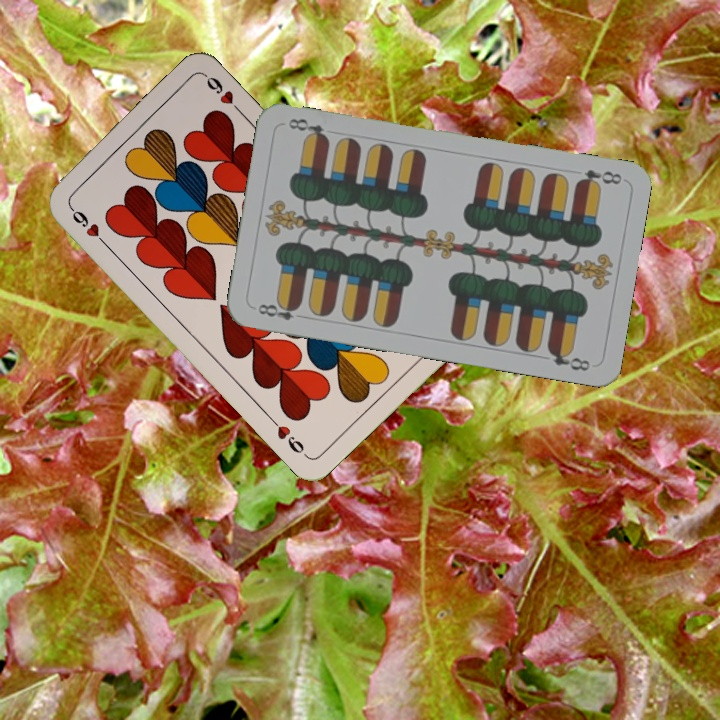E8: (572, 165, 625, 191), (253, 297, 303, 323)
H9: (65, 201, 110, 249)
